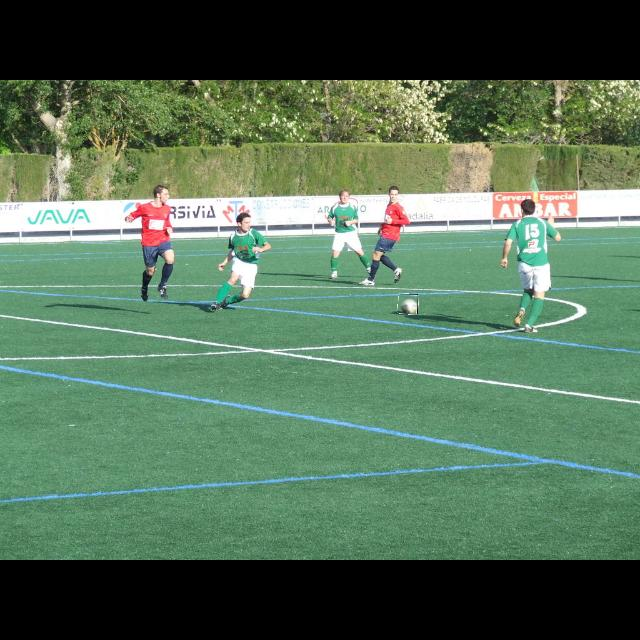Football: (398, 294, 418, 314)
